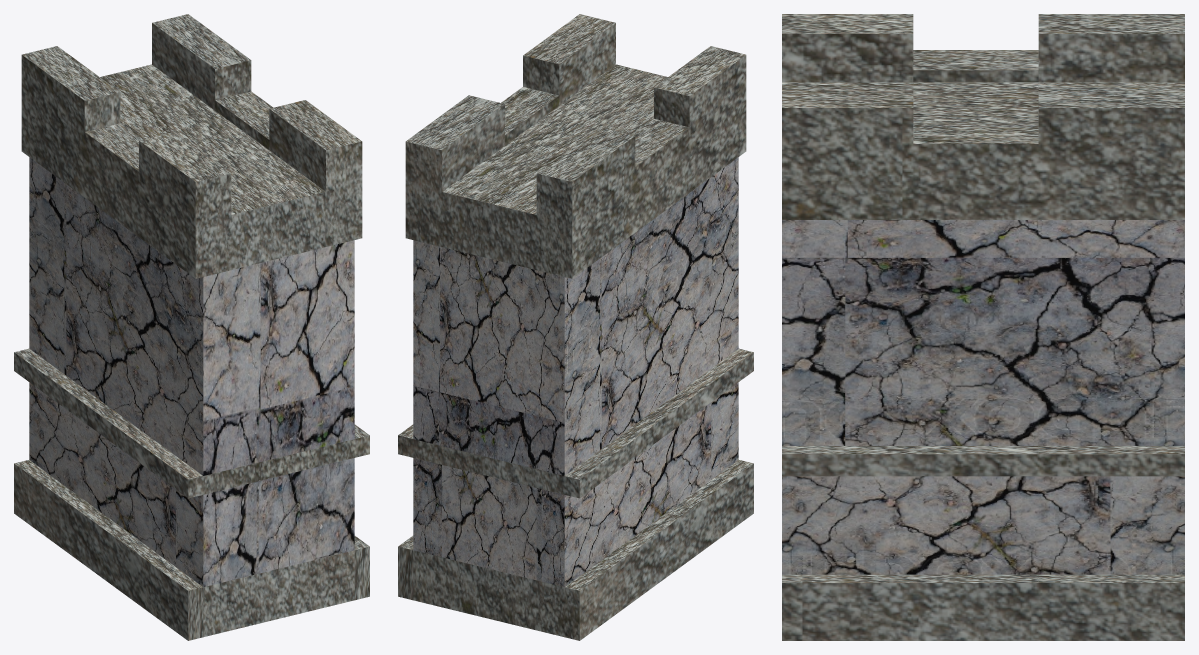
File: Hittites_wall.fbx
3 renders of one model, left to right at view 1: azimuth 30°, elevation 25°; view 2: azimuth 150°, elevation 25°; view 3: azimuth 270°, elevation 25°, orthographic. The views are drawn at different scales.
Parts seen in each view (by area): view 1: Cube; view 2: Cube; view 3: Cube.
Part boxes in pixels (box(x1,y1,x2,y2)): Cube: box(14, 14, 369, 640); Cube: box(398, 14, 753, 640); Cube: box(782, 14, 1184, 640).
Bounding box in the file's own units: 264 × 634 × 438.
1 material, 1 textured.
